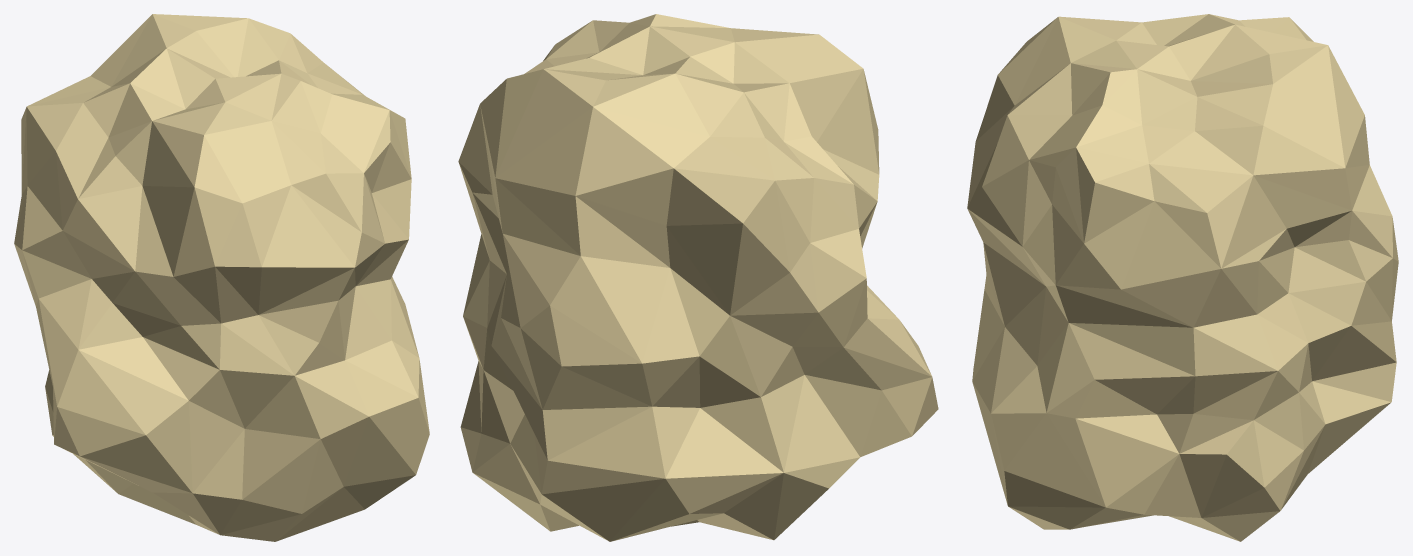
The model's file is Asteroid (97).fbx.
The picture shows the model from 3 angles, left to right: view 1: azimuth 30°, elevation 25°; view 2: azimuth 150°, elevation 25°; view 3: azimuth 270°, elevation 25°; orthographic projection. The views are drawn at different scales.
Parts seen in each view (by area): view 1: Asteroid111; view 2: Asteroid111; view 3: Asteroid111.
Part boxes in pixels (box(x1,y1,x2,y2)): Asteroid111: box(14, 14, 429, 541); Asteroid111: box(458, 14, 938, 541); Asteroid111: box(967, 14, 1398, 541).
Bounding box in the file's own units: 274 × 308 × 261.
